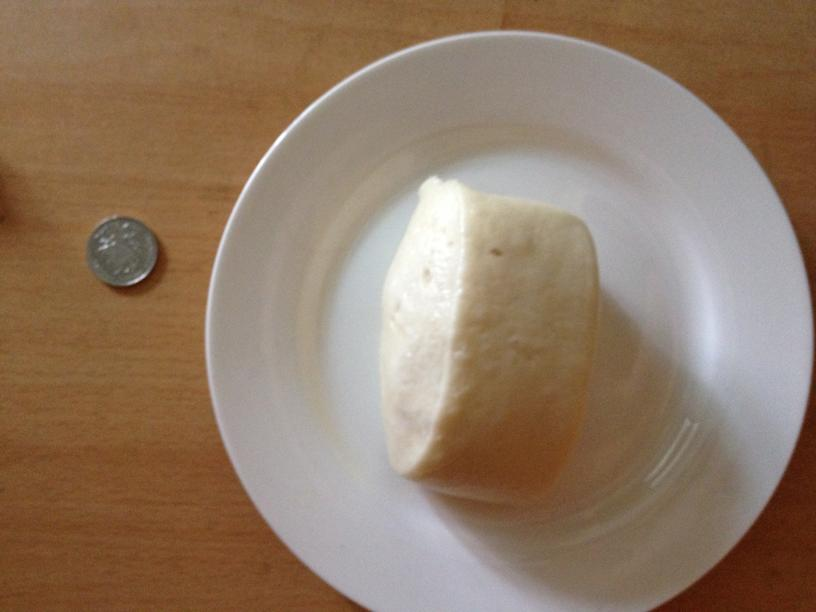bun: (371, 181, 597, 507)
coin: (85, 214, 160, 287)
